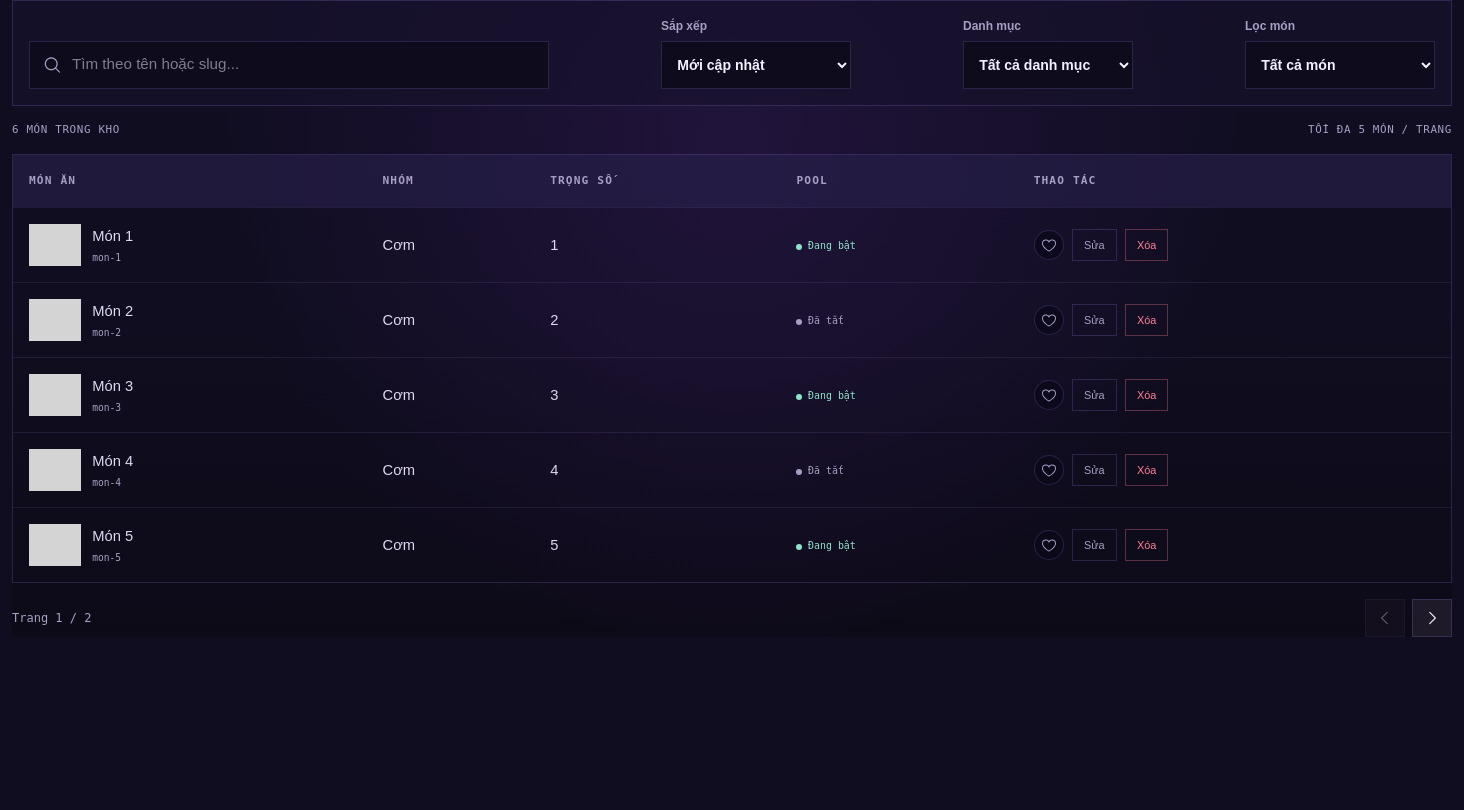
DishTable › sorts by the selected field
Select "Trọng số cao nhất" in the dropdown labelled "Sắp xếp". click: [756, 65]
box: [661,41,851,89]
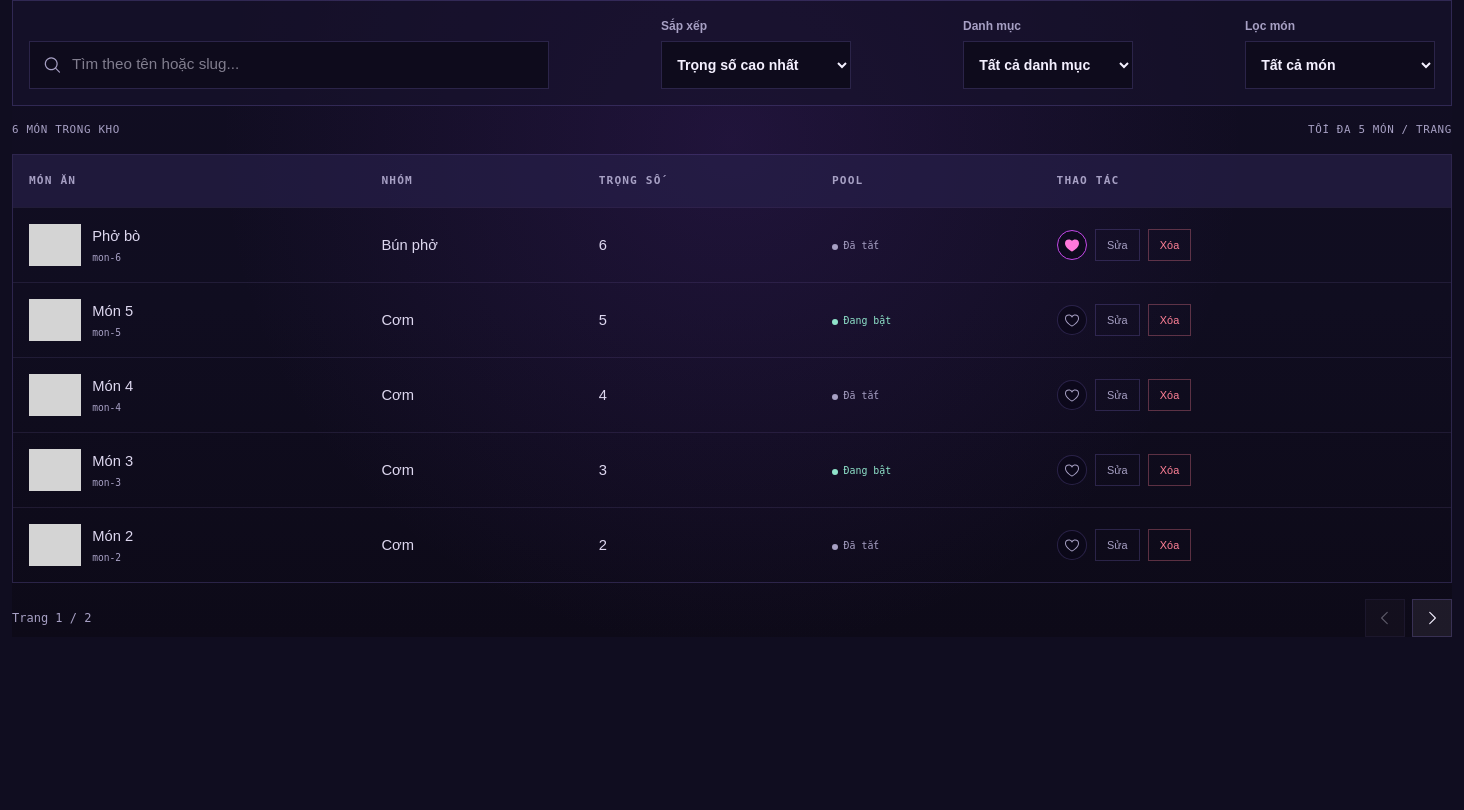
Expected: the row "Phở bò mon-6 Bún phở 6 Đã tắt Sửa Xóa" is shown, [13,207,1451,282]
